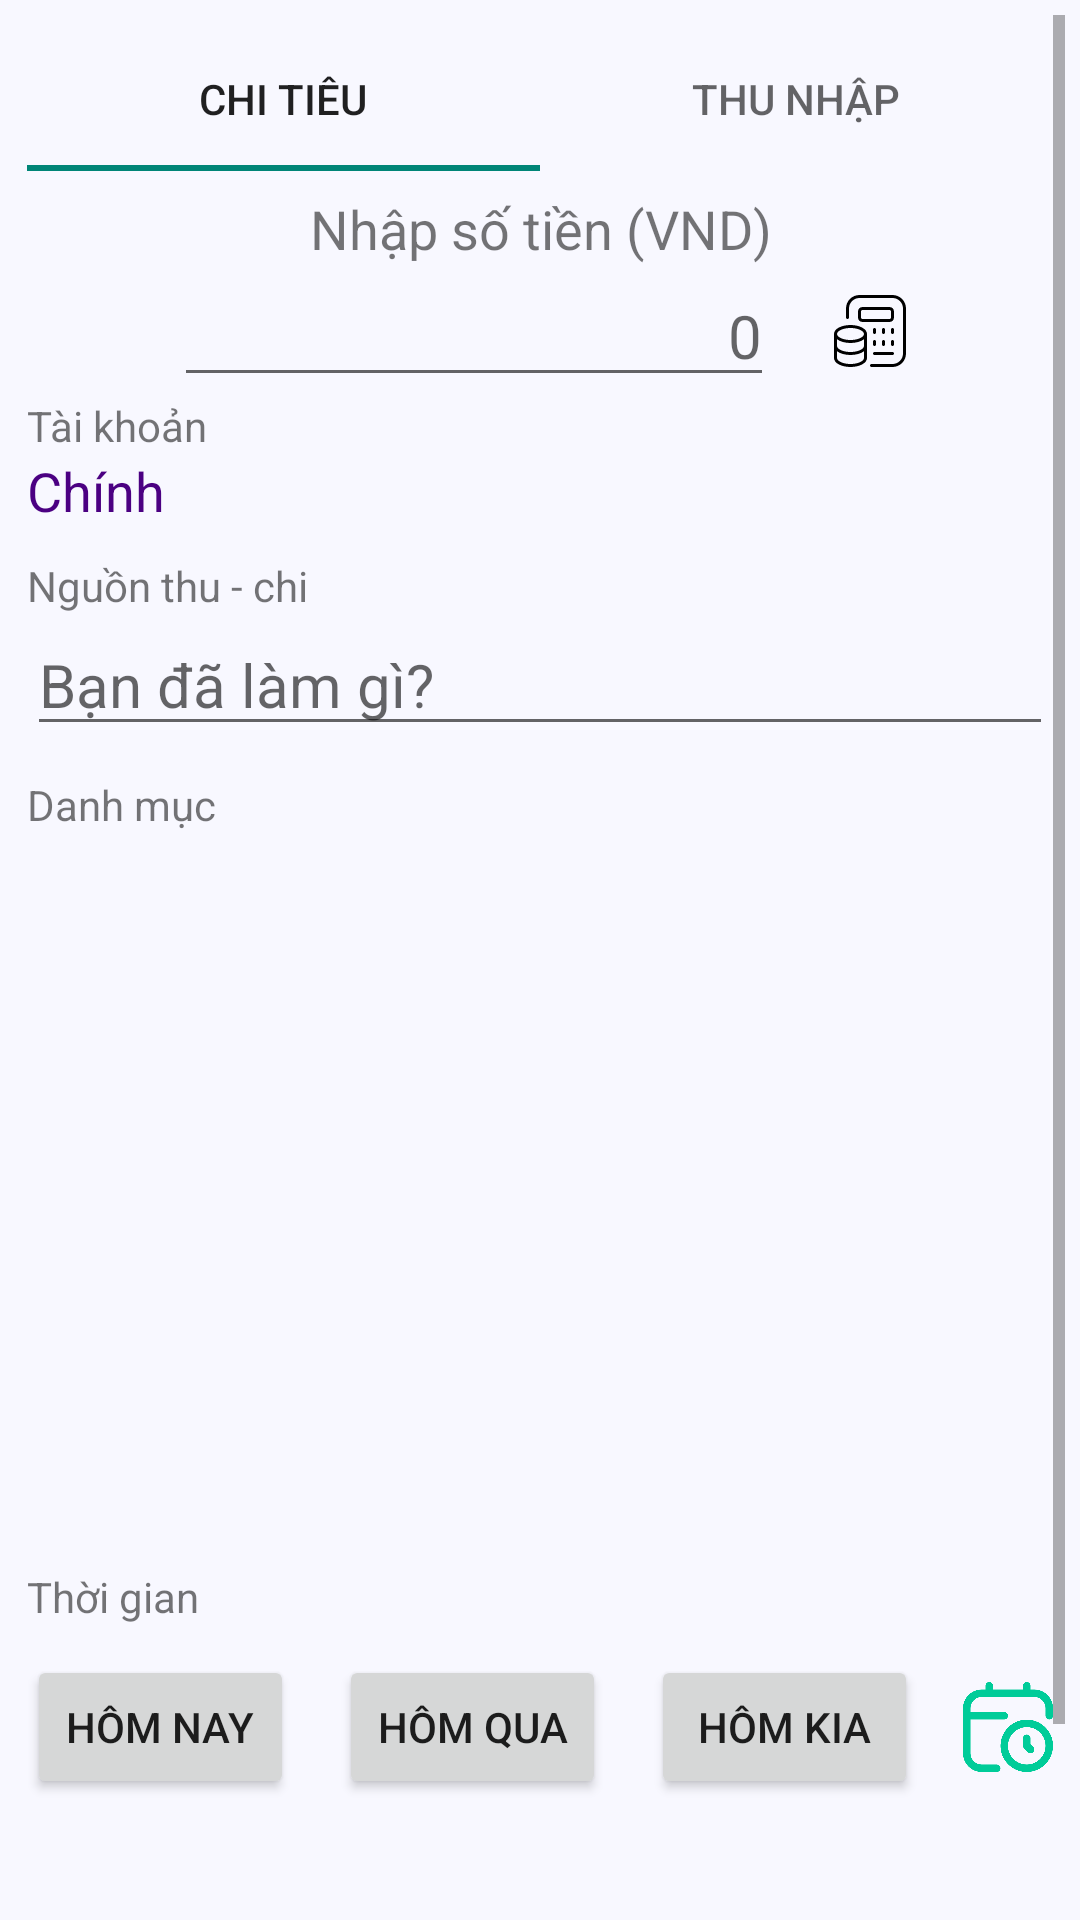

Icons on this 1080x1920 Android screen, each with its box as (x1, y1, x2, y2):
calculator: (834, 295, 906, 367)
ngaythang: (963, 1682, 1053, 1772)
